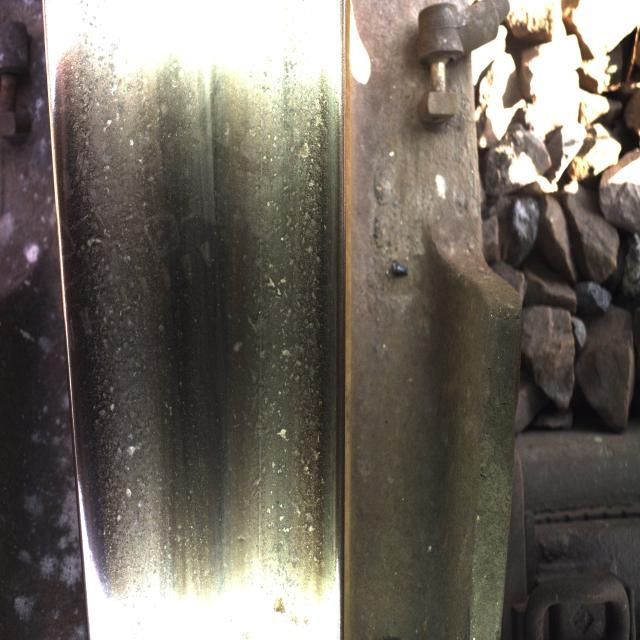normal: (230, 45, 331, 569), (72, 56, 172, 490)
